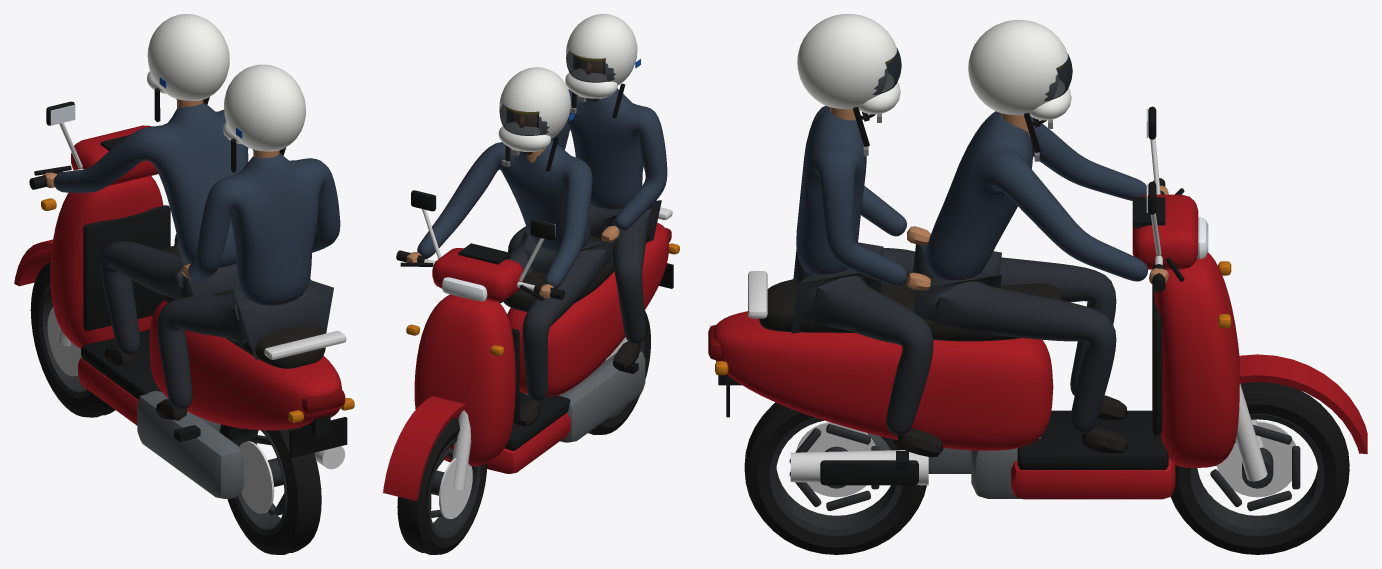
File: Motorcycle.fbx
3 views of the same model, side by side, from view 1: azimuth 30°, elevation 25°; view 2: azimuth 150°, elevation 25°; view 3: azimuth 270°, elevation 25° (orthographic). The views are drawn at different scales.
Visible parts, largest first — view 1: Motorcycle_Body, Pillion_Body, Rider_Body, Wheel_R, Pillion_Helmet_SNI, Rider_Helmet_SNI, Wheel_F, Steer_Handlebars, Lamp_Brake; view 2: Motorcycle_Body, Rider_Body, Pillion_Body, Steer_Handlebars, Wheel_F, Rider_Helmet_SNI, Pillion_Helmet_SNI, Wheel_R, Lamp_Head, Rider_Head; view 3: Motorcycle_Body, Rider_Body, Pillion_Body, Wheel_F, Wheel_R, Pillion_Helmet_SNI, Rider_Helmet_SNI, Steer_Handlebars.
Boxes of the visible parts, bbox=[...] form: Motorcycle_Body: bbox=[14, 176, 347, 498]; Pillion_Body: bbox=[156, 153, 340, 420]; Rider_Body: bbox=[43, 102, 248, 366]; Wheel_R: bbox=[219, 424, 321, 554]; Pillion_Helmet_SNI: bbox=[223, 64, 305, 151]; Rider_Helmet_SNI: bbox=[147, 14, 229, 100]; Wheel_F: bbox=[30, 262, 115, 417]; Steer_Handlebars: bbox=[29, 101, 158, 345]; Lamp_Brake: bbox=[302, 389, 345, 413]; Motorcycle_Body: bbox=[383, 207, 673, 500]; Rider_Body: bbox=[406, 140, 615, 426]; Pillion_Body: bbox=[508, 88, 667, 370]; Steer_Handlebars: bbox=[396, 190, 565, 489]; Wheel_F: bbox=[397, 417, 486, 554]; Rider_Helmet_SNI: bbox=[498, 67, 574, 151]; Pillion_Helmet_SNI: bbox=[565, 14, 640, 98]; Wheel_R: bbox=[588, 310, 650, 434]; Lamp_Head: bbox=[442, 277, 487, 301]; Rider_Head: bbox=[514, 113, 546, 162]; Motorcycle_Body: bbox=[713, 252, 1367, 499]; Rider_Body: bbox=[913, 111, 1168, 453]; Pillion_Body: bbox=[791, 105, 943, 457]; Wheel_F: bbox=[1170, 382, 1349, 554]; Wheel_R: bbox=[744, 402, 926, 554]; Pillion_Helmet_SNI: bbox=[797, 14, 901, 114]; Rider_Helmet_SNI: bbox=[968, 20, 1072, 120]; Steer_Handlebars: bbox=[1132, 106, 1267, 481].
Bounding box in the file's own units: 0.74 × 1.79 × 2.
